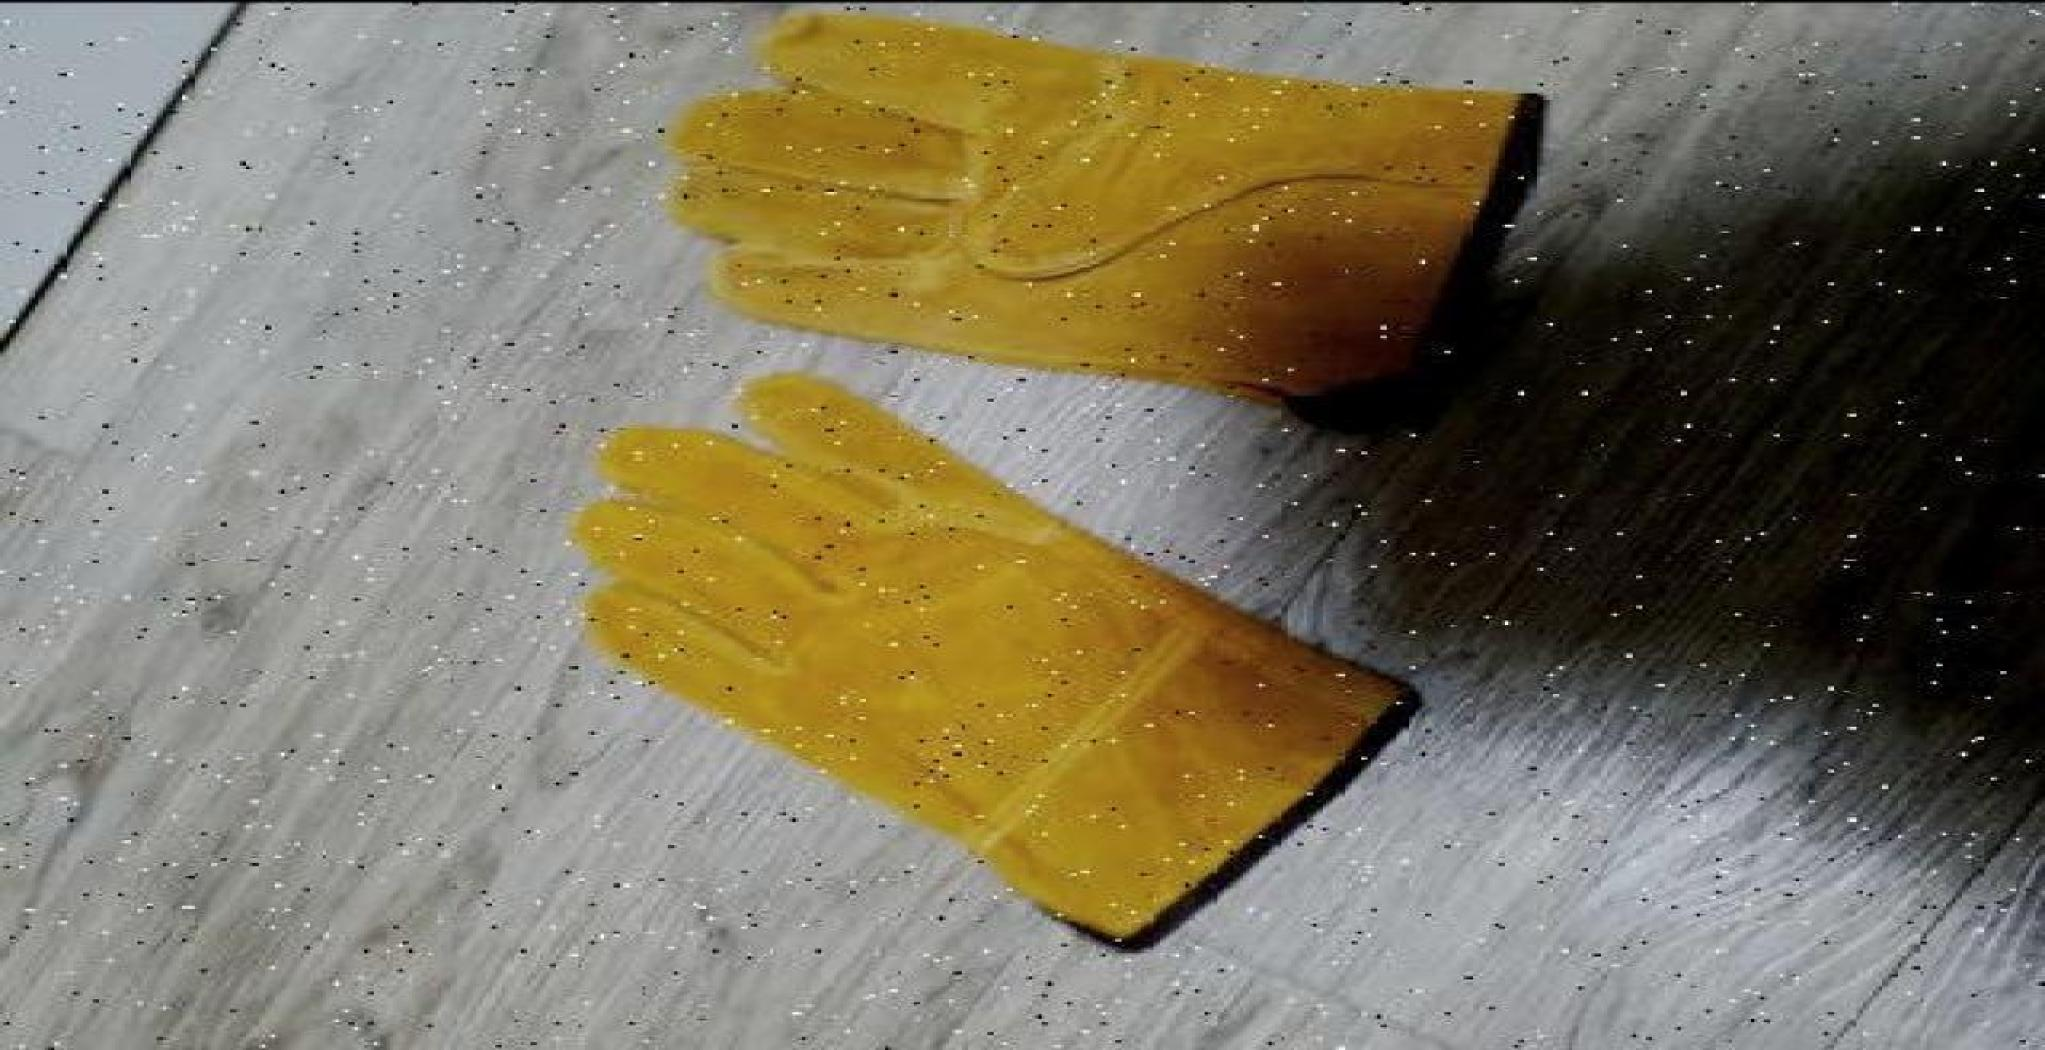gloved: (565, 370, 1425, 950)
